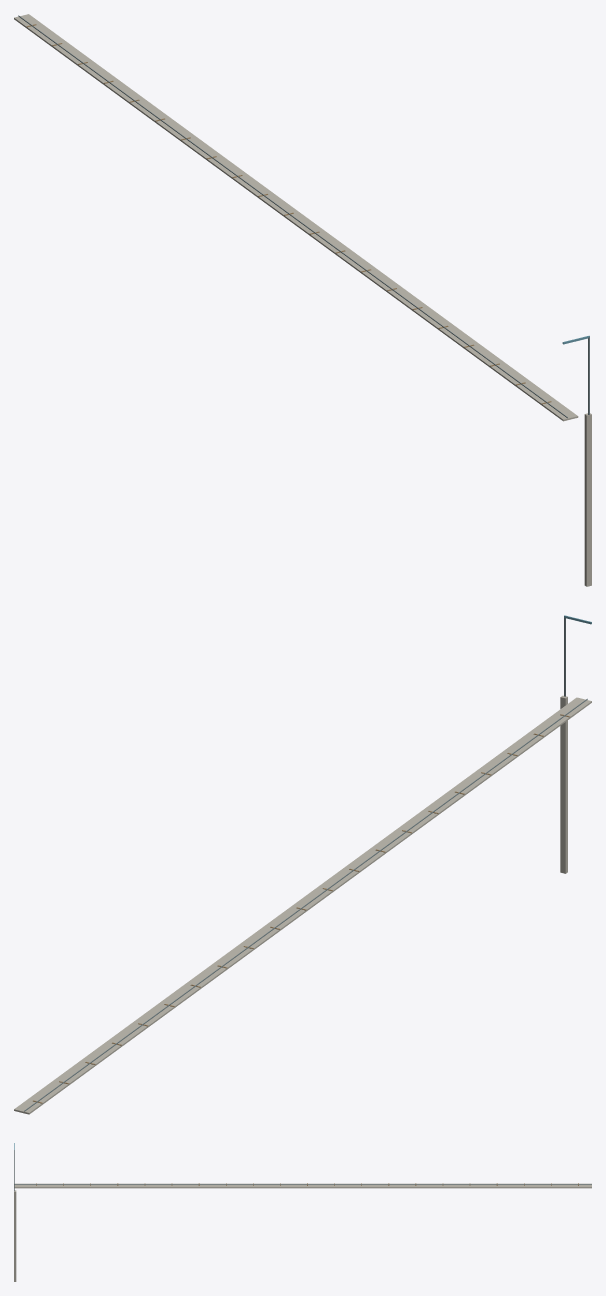
The model's file is valley-8-6.glb.
3 views of the same model, one above another, from view 1: azimuth 30°, elevation 25°; view 2: azimuth 150°, elevation 25°; view 3: azimuth 270°, elevation 25° (orthographic). The views are drawn at different scales.
Parts seen in each view (by area): view 1: valley-8-6; view 2: valley-8-6; view 3: valley-8-6.
Part boxes in pixels (x1,y1,x2,y2): valley-8-6: (14, 14, 591, 586); valley-8-6: (14, 615, 591, 1114); valley-8-6: (14, 1143, 591, 1281).
Bounding box in the file's own units: 7.7 × 64.29 × 256.
